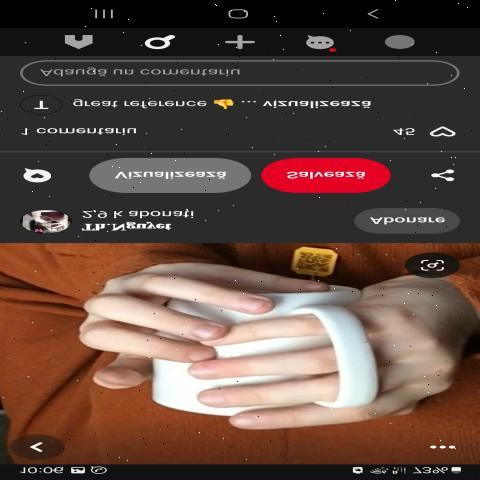Hands: (189, 275, 480, 463), (46, 246, 338, 412)
